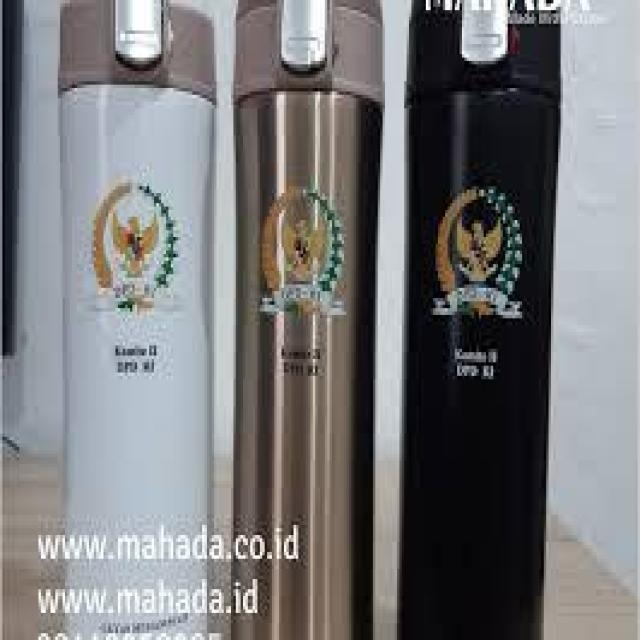bottle: (400, 0, 570, 640), (225, 0, 389, 637), (55, 0, 214, 640)
